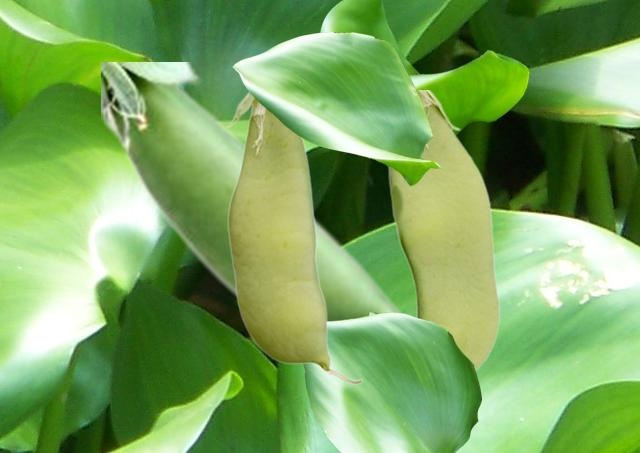pea: (101, 62, 407, 319), (225, 92, 363, 384), (387, 90, 499, 372)
